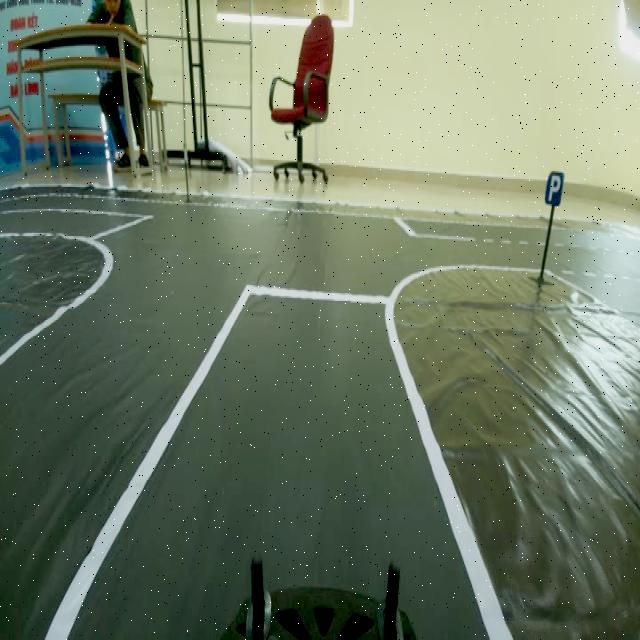parking: (543, 168, 566, 211)
